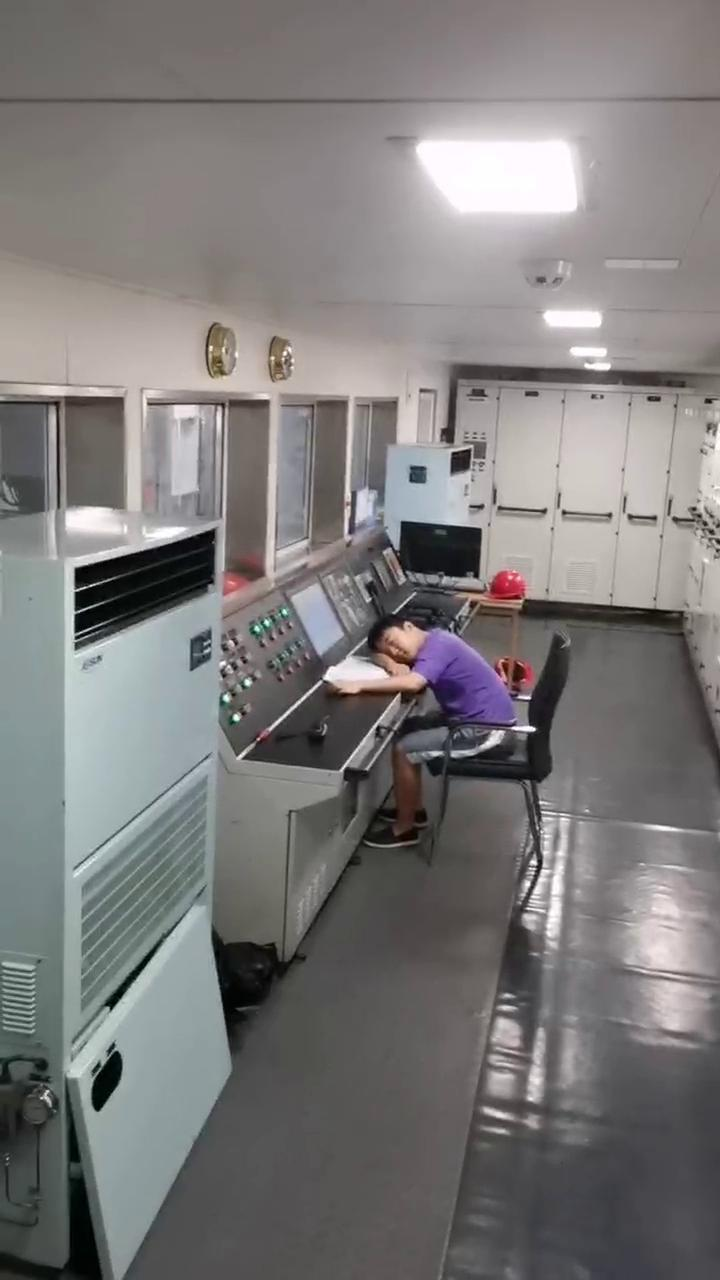sleep: (315, 617, 526, 769)
